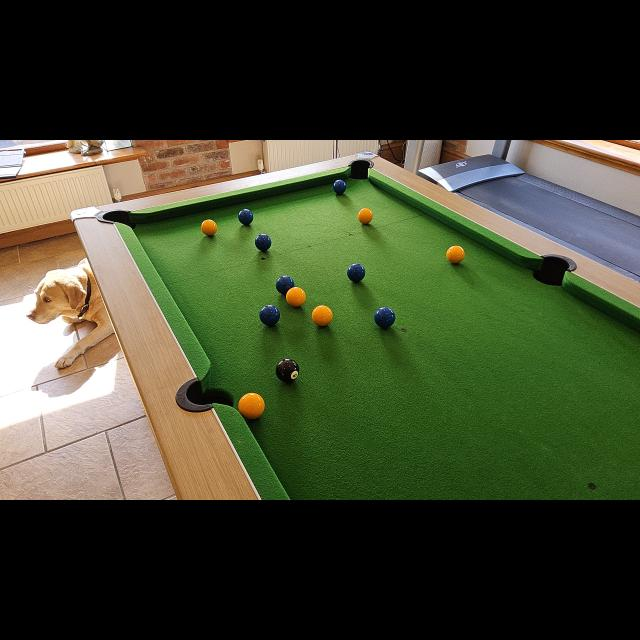Ball: (240, 392, 264, 420), (276, 359, 300, 383), (286, 287, 306, 307), (312, 306, 332, 326), (259, 306, 279, 326), (275, 276, 295, 296), (374, 308, 394, 328), (347, 264, 365, 282), (448, 246, 464, 264), (201, 220, 217, 237), (357, 208, 373, 225), (239, 208, 253, 226), (334, 180, 346, 194)
